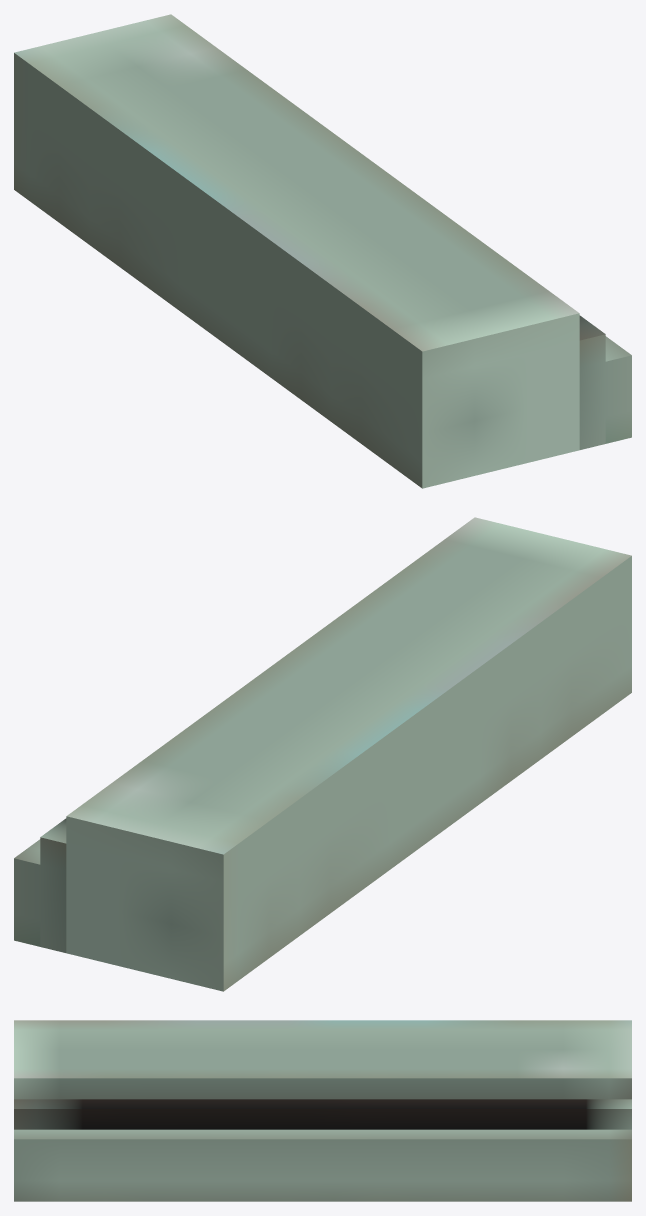
Rendered from AirConditioner_03.fbx.
The picture shows the model from 3 angles, top to bottom: view 1: azimuth 30°, elevation 25°; view 2: azimuth 150°, elevation 25°; view 3: azimuth 270°, elevation 25°; orthographic projection. The views are drawn at different scales.
Parts seen in each view (by area): view 1: AirConditioner_03; view 2: AirConditioner_03; view 3: AirConditioner_03.
Boxes of the visible parts, box(x1,y1,x2,y2) form: AirConditioner_03: box(14, 14, 631, 488); AirConditioner_03: box(14, 517, 631, 991); AirConditioner_03: box(14, 1020, 631, 1201).
Size of the model in its own units: 40 by 135 by 25.
Materials: 1 (1 with a texture image).
